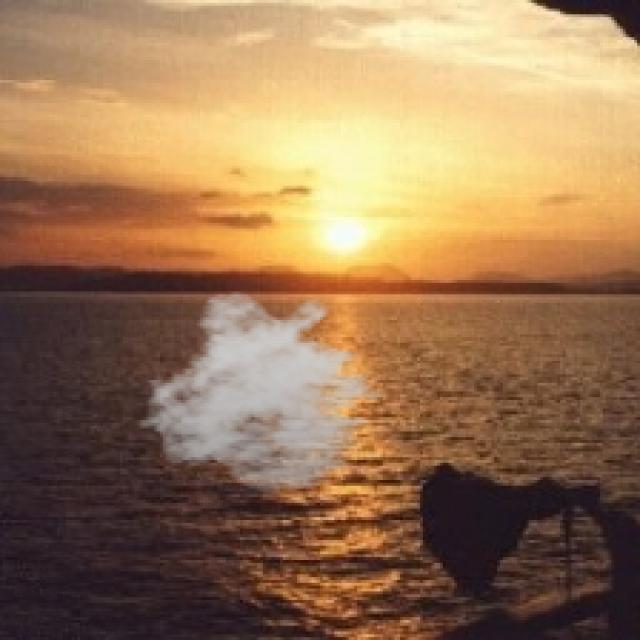smoke: (137, 292, 403, 494)
